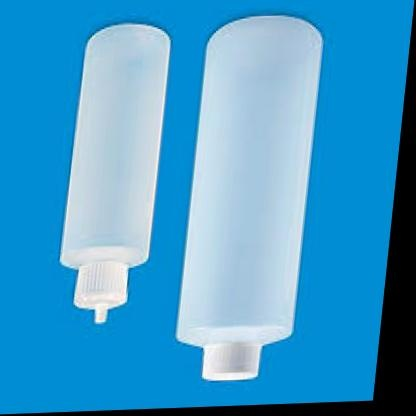trash: (177, 16, 321, 380), (60, 24, 169, 322)
